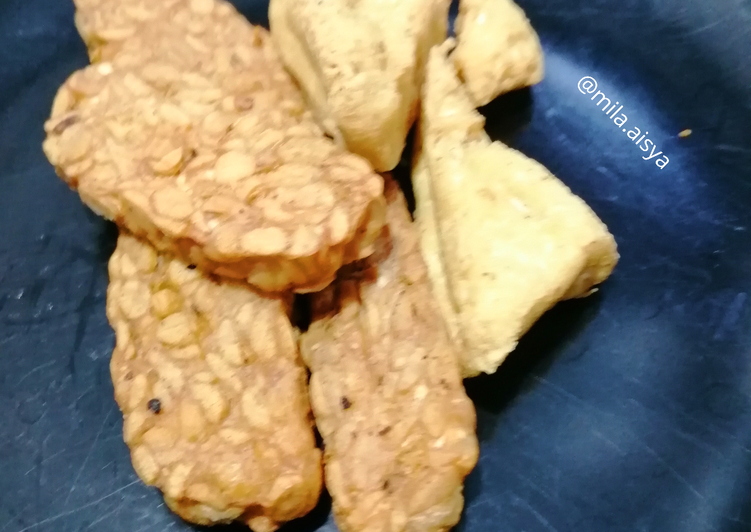Tempe: (91, 257, 321, 526), (58, 94, 373, 246), (300, 279, 479, 520)
